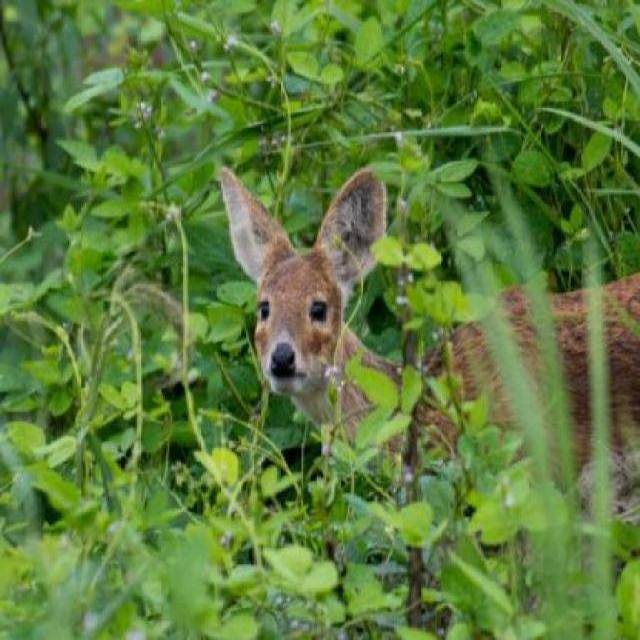deer: (213, 156, 639, 499)
